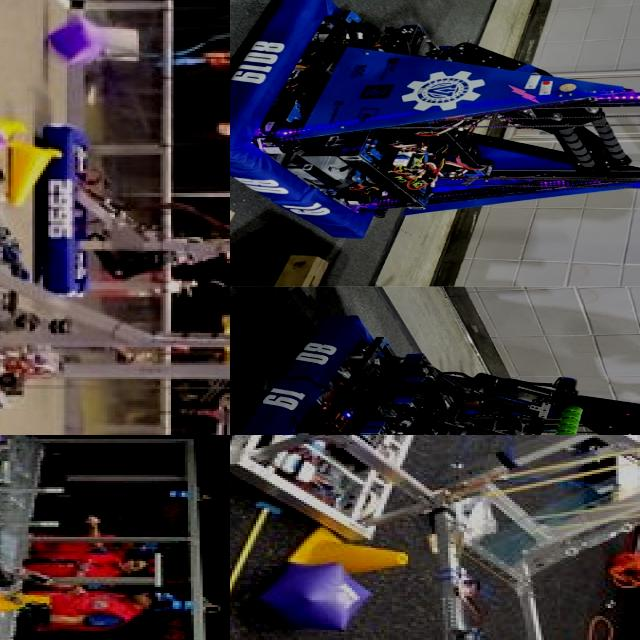FRC-Robots: (230, 0, 640, 278), (230, 435, 640, 640), (0, 184, 230, 435), (230, 310, 640, 435), (23, 97, 230, 288), (0, 435, 53, 622)
